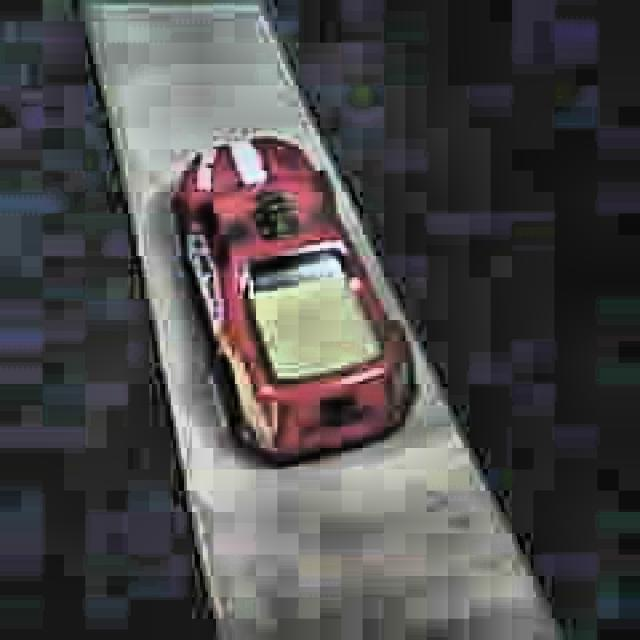car: (170, 135, 420, 471)
